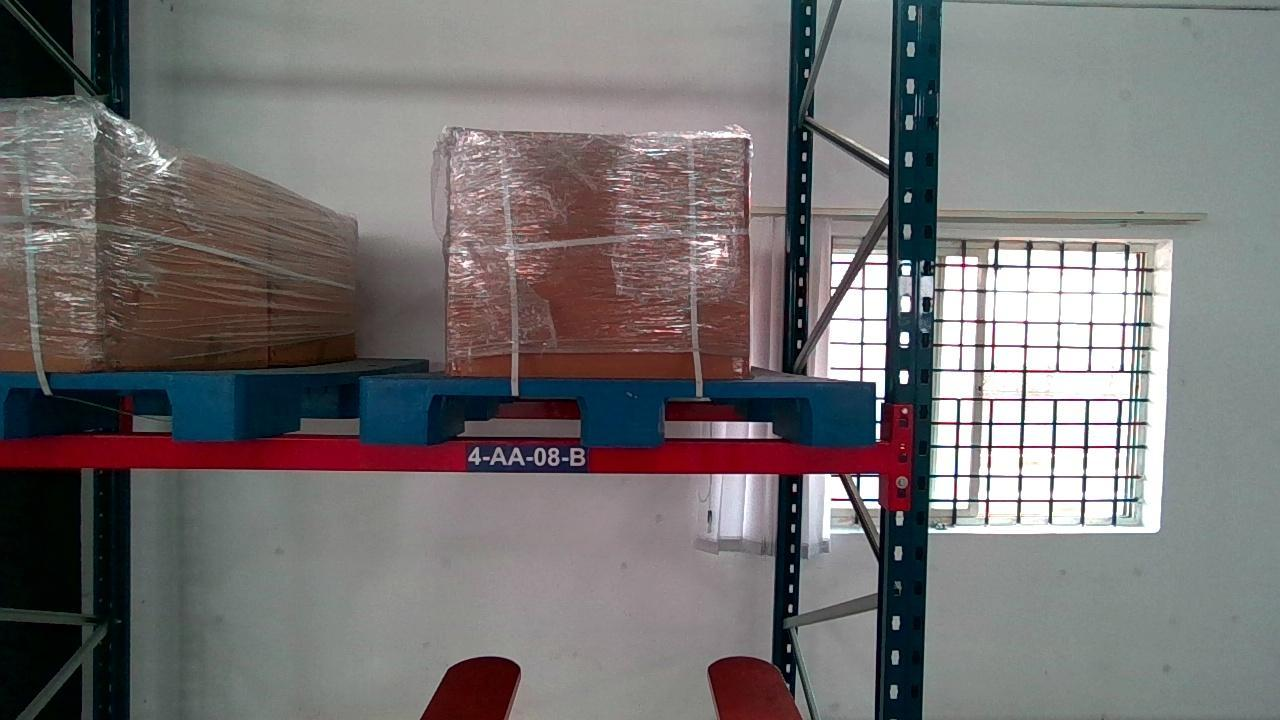h_rack: (1, 435, 885, 470)
small_pallet: (359, 378, 874, 446)
